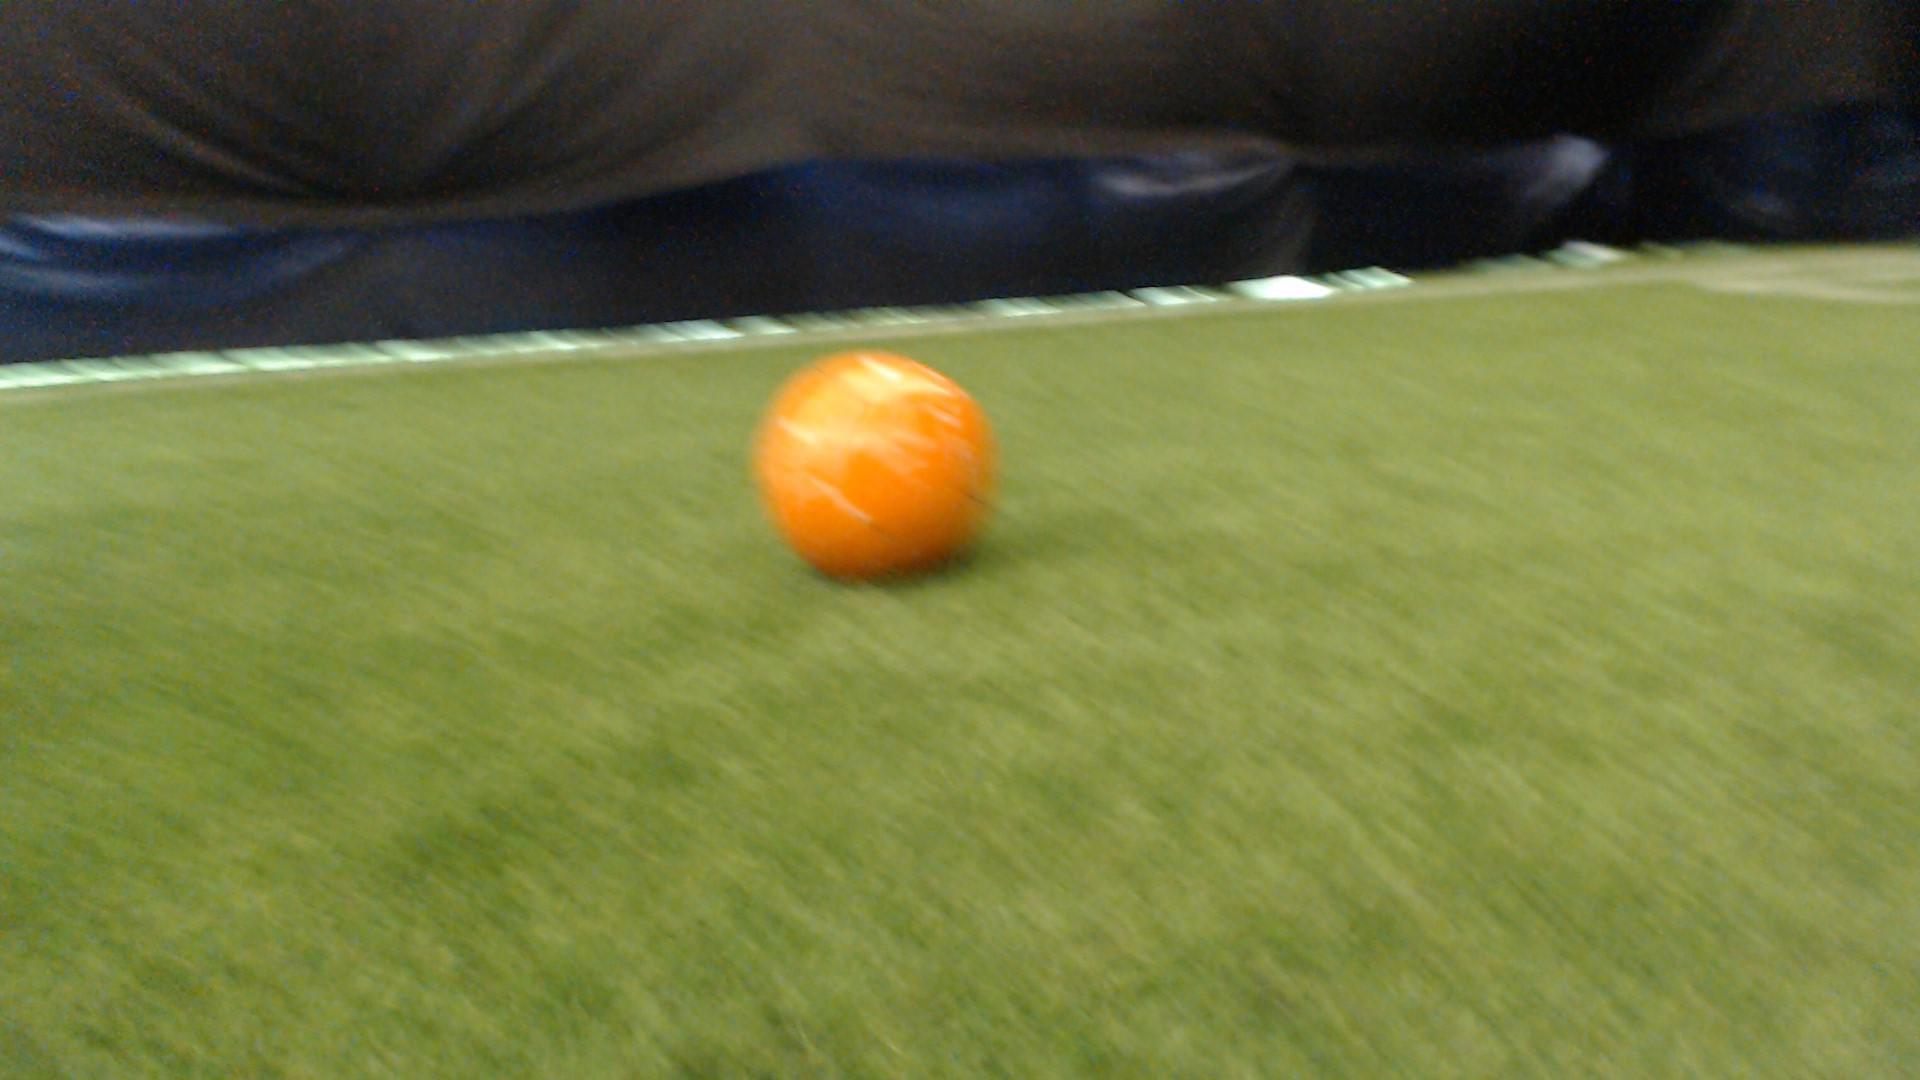bola: (735, 335, 1017, 607)
